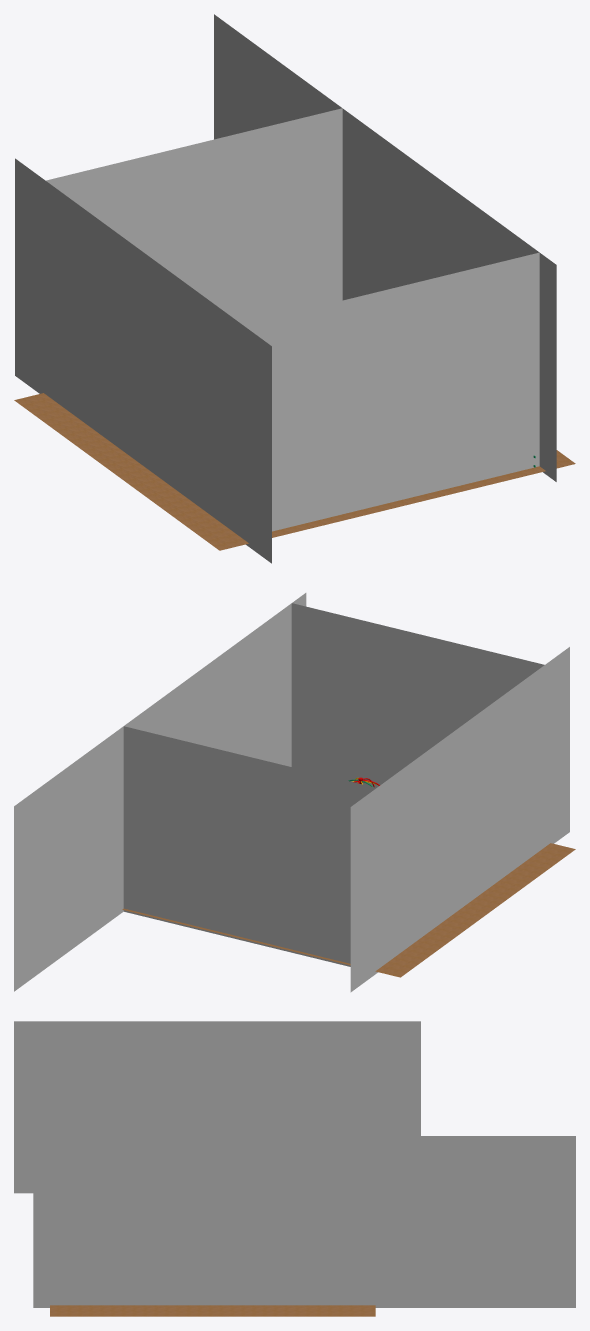
3 renders of one model, top to bottom at view 1: azimuth 30°, elevation 25°; view 2: azimuth 150°, elevation 25°; view 3: azimuth 270°, elevation 25°, orthographic. The views are drawn at different scales.
Visible parts, largest first — view 1: BG (14) (×3), Wall_Left, Wall_Right, Wall_Foward, Wall_Foward (1), Ground; view 2: BG (14) (×3), Wall_Left, Wall_Foward (1), Wall_Right, Wall_Foward, Ground; view 3: Wall_Left, Wall_Right, BG (14), Ground.
Boxes of the visible parts, left/top/right/bottom form: BG (14) (×3): left=143, top=108, right=539, bottom=563; Wall_Left: left=214, top=14, right=556, bottom=481; Wall_Right: left=15, top=158, right=144, bottom=465; Wall_Foward: left=243, top=288, right=394, bottom=531; Wall_Foward (1): left=46, top=144, right=195, bottom=289; Ground: left=14, top=393, right=575, bottom=550; BG (14) (×3): left=248, top=634, right=569, bottom=966; Wall_Left: left=14, top=593, right=306, bottom=991; Wall_Foward (1): left=123, top=726, right=251, bottom=941; Wall_Right: left=350, top=726, right=461, bottom=992; Wall_Foward: left=291, top=603, right=420, bottom=787; Ground: left=122, top=843, right=575, bottom=977; Wall_Left: left=33, top=1136, right=575, bottom=1307; Wall_Right: left=14, top=1021, right=220, bottom=1193; BG (14): left=216, top=1021, right=420, bottom=1135; Ground: left=50, top=1305, right=375, bottom=1316.
Size of the model in its own units: 120 by 70 by 207.
